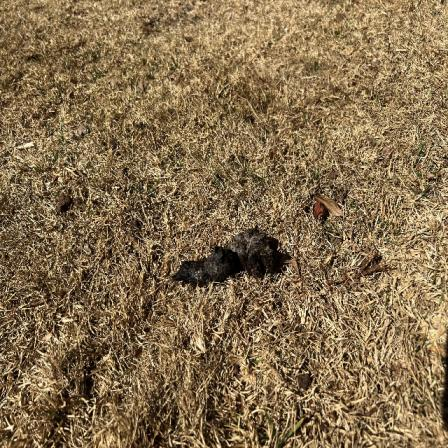dog-poop: (173, 224, 295, 286)
